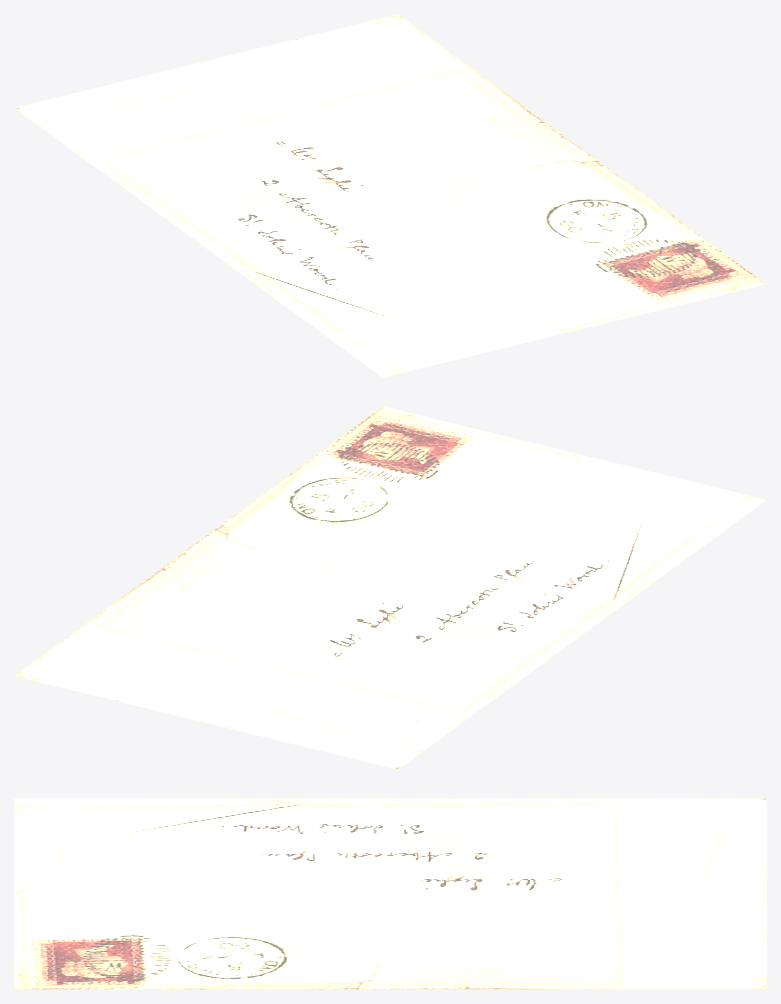
The model's file is Envelope.FBX.
3 views of the same model, one above another, from view 1: azimuth 30°, elevation 25°; view 2: azimuth 150°, elevation 25°; view 3: azimuth 270°, elevation 25° (orthographic). The views are drawn at different scales.
Visible parts, largest first — view 1: Plane001; view 2: Plane001; view 3: Plane001.
Boxes of the visible parts, left/top/right/bottom form: Plane001: left=14, top=14, right=766, bottom=377; Plane001: left=14, top=406, right=766, bottom=769; Plane001: left=14, top=798, right=766, bottom=989.
Size of the model in its own units: 20.37 by 2.07e-15 by 33.86.
